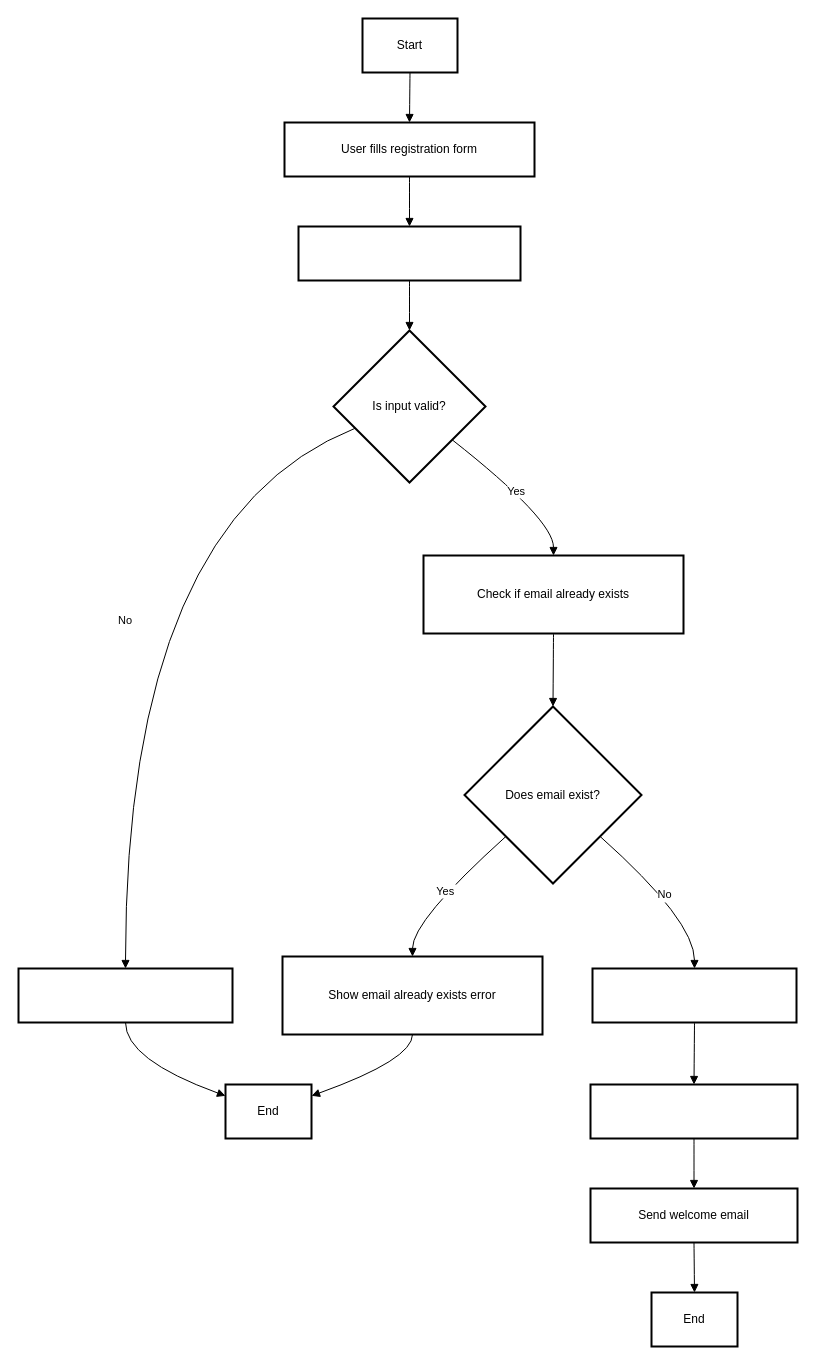
Image size: 815x1364. Some labels were removed from this diagram. The centre of each missing label's shape, as x and y in pixels:
Create user account: point (694, 995)
Generate JWT token: point (693, 1111)
Show validation error: point (125, 995)
System validates input: point (409, 253)
